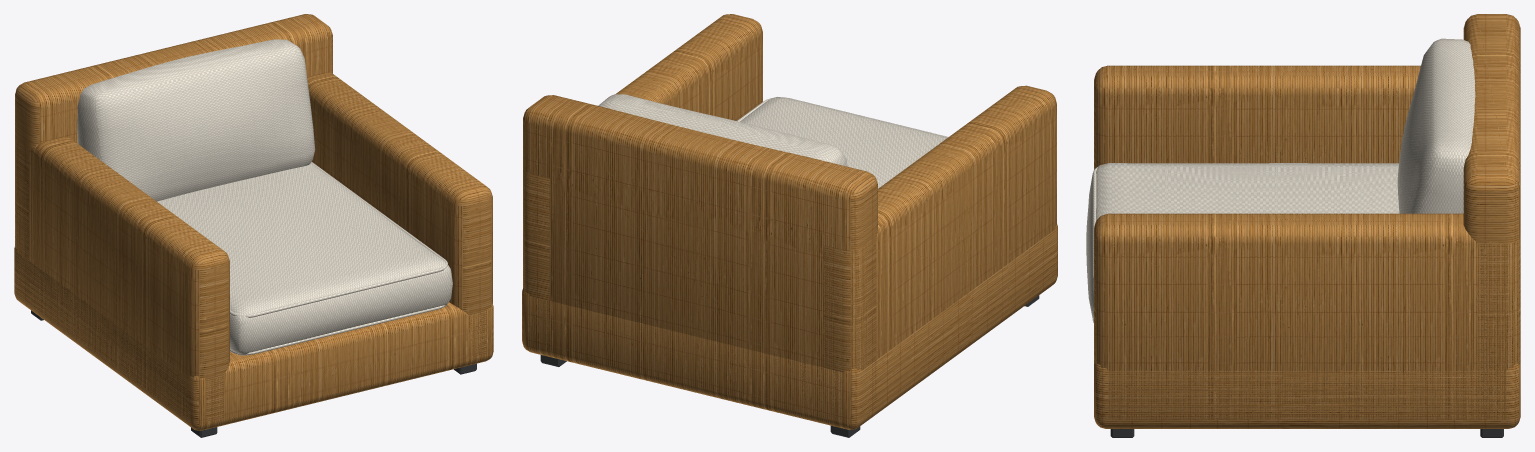
The model's file is sillon_chillout_bajo_natural.glb.
3 renders of one model, left to right at view 1: azimuth 30°, elevation 25°; view 2: azimuth 150°, elevation 25°; view 3: azimuth 270°, elevation 25°, orthographic. The views are drawn at different scales.
Parts seen in each view (by area): view 1: sillon_chillout_bajo_natural; view 2: sillon_chillout_bajo_natural; view 3: sillon_chillout_bajo_natural.
Boxes of the visible parts, <box> form: sillon_chillout_bajo_natural: <box>14,14,493,437</box>; sillon_chillout_bajo_natural: <box>522,14,1057,437</box>; sillon_chillout_bajo_natural: <box>1086,14,1520,437</box>.
Bounding box in the file's own units: 0.85 × 0.6339 × 0.9162.
3 materials, 2 textured.
